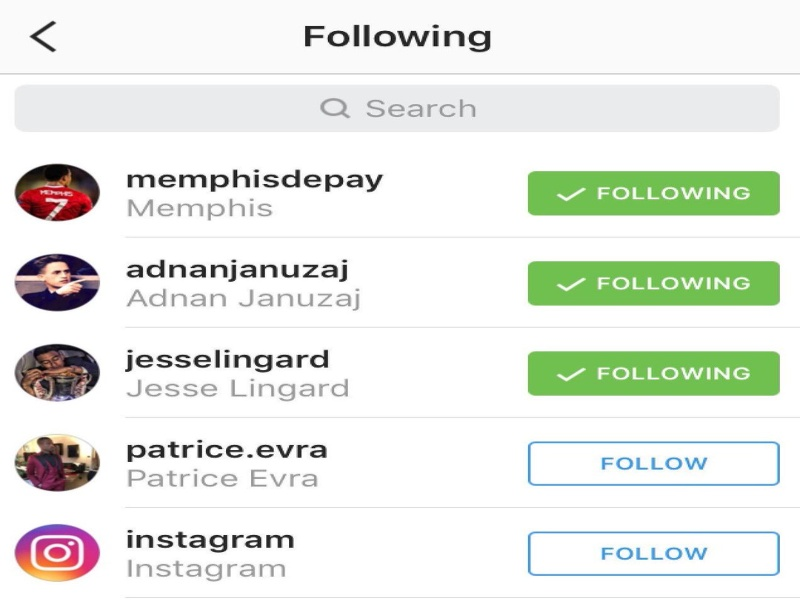follow: (517, 517, 788, 584), (517, 344, 785, 409), (522, 162, 786, 223), (519, 253, 786, 312), (522, 438, 790, 491)
